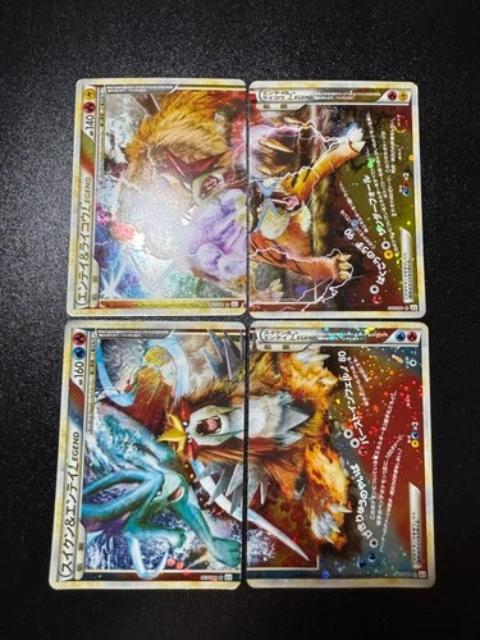Card: (46, 318, 248, 593), (244, 320, 439, 590), (64, 76, 248, 319), (247, 78, 429, 321)
Name: (57, 424, 85, 578), (74, 170, 94, 309), (257, 86, 319, 104), (258, 327, 320, 344)
